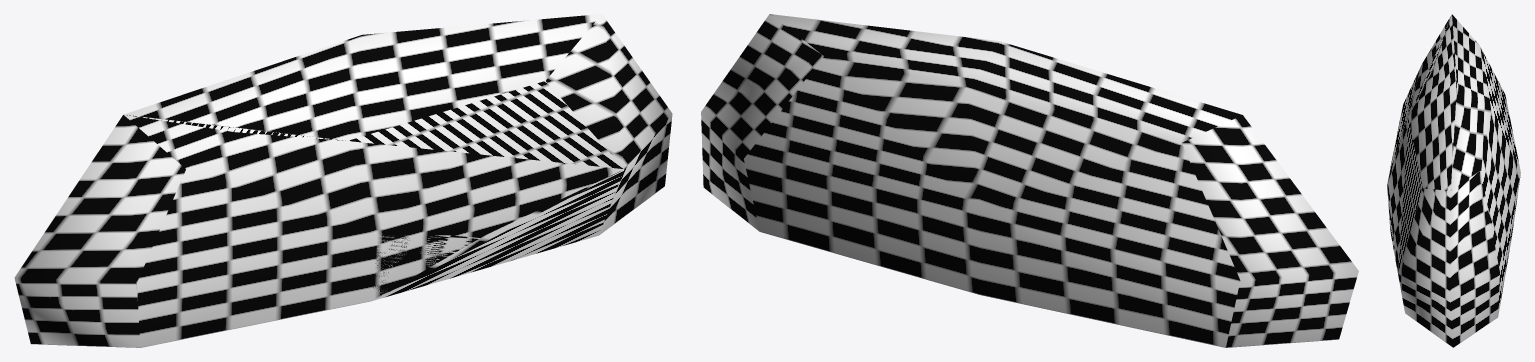
Rendered from nast22.dae.
3 renders of one model, left to right at view 1: azimuth 30°, elevation 25°; view 2: azimuth 150°, elevation 25°; view 3: azimuth 270°, elevation 25°, orthographic. The views are drawn at different scales.
Visible parts, largest first — view 1: stone00, stone02; view 2: stone00; view 3: stone00, stone02.
Boxes of the visible parts, box(x1,y1,x2,y2) form: stone00: box(14, 14, 672, 347); stone02: box(127, 81, 624, 301); stone00: box(701, 14, 1358, 347); stone00: box(1387, 14, 1520, 347); stone02: box(1389, 17, 1450, 273).
Size of the model in its own units: 1.3 by 0.3214 by 0.4202.
Materials: 1 (1 with a texture image).
